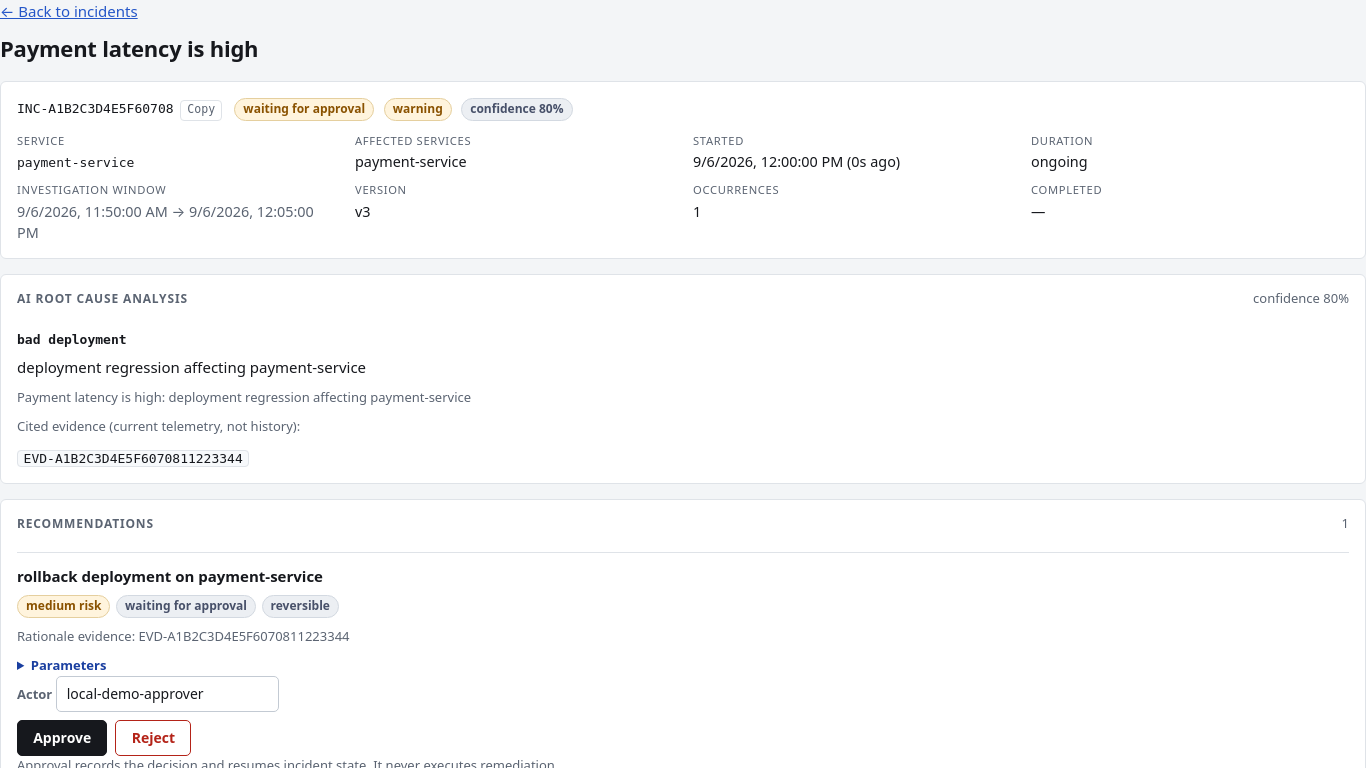
Test: IncidentDetailPage › requires an actor name before deciding
Expected: the button "Approve" is shown, [17,720,108,756]
Clear the field labelled "Actor" at (168, 694), box [56,676,279,712]
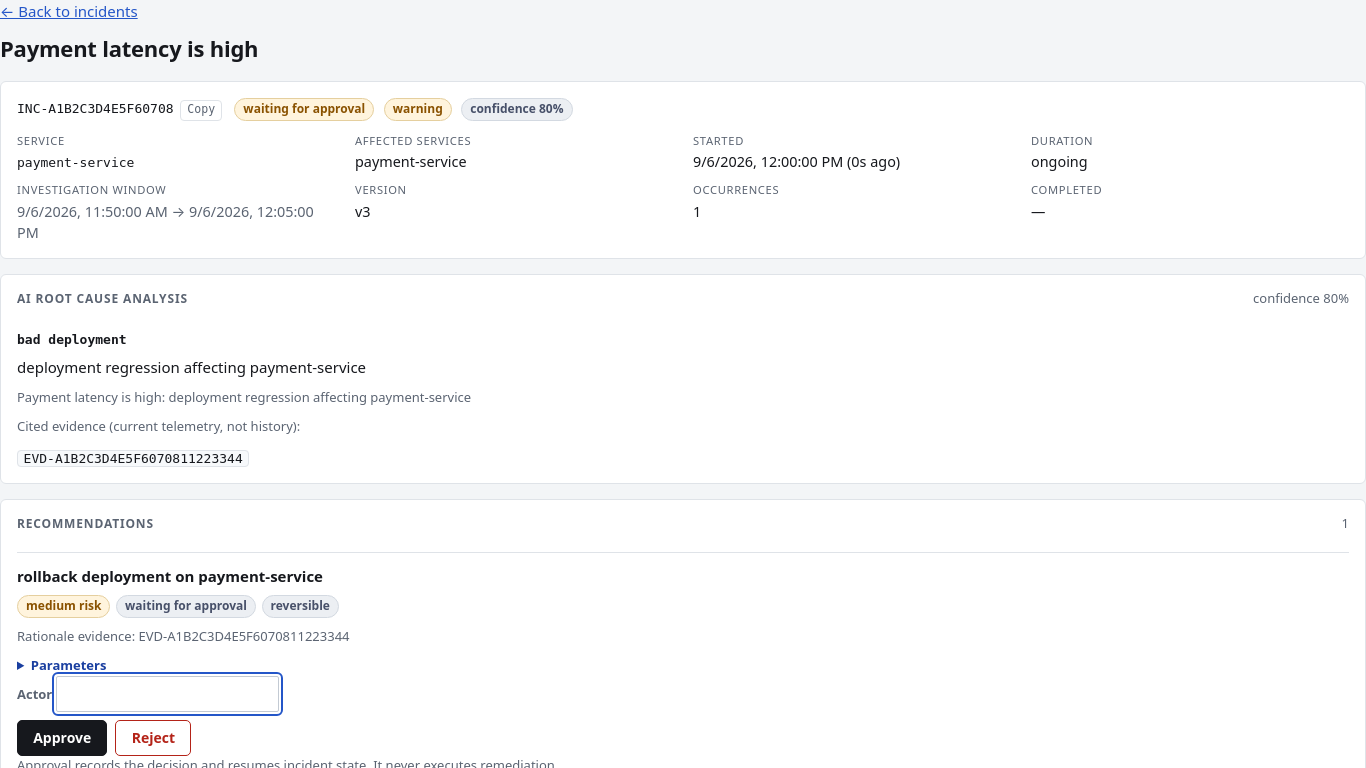
Click the button "Approve".
click(62, 738)  # box [17,720,108,756]
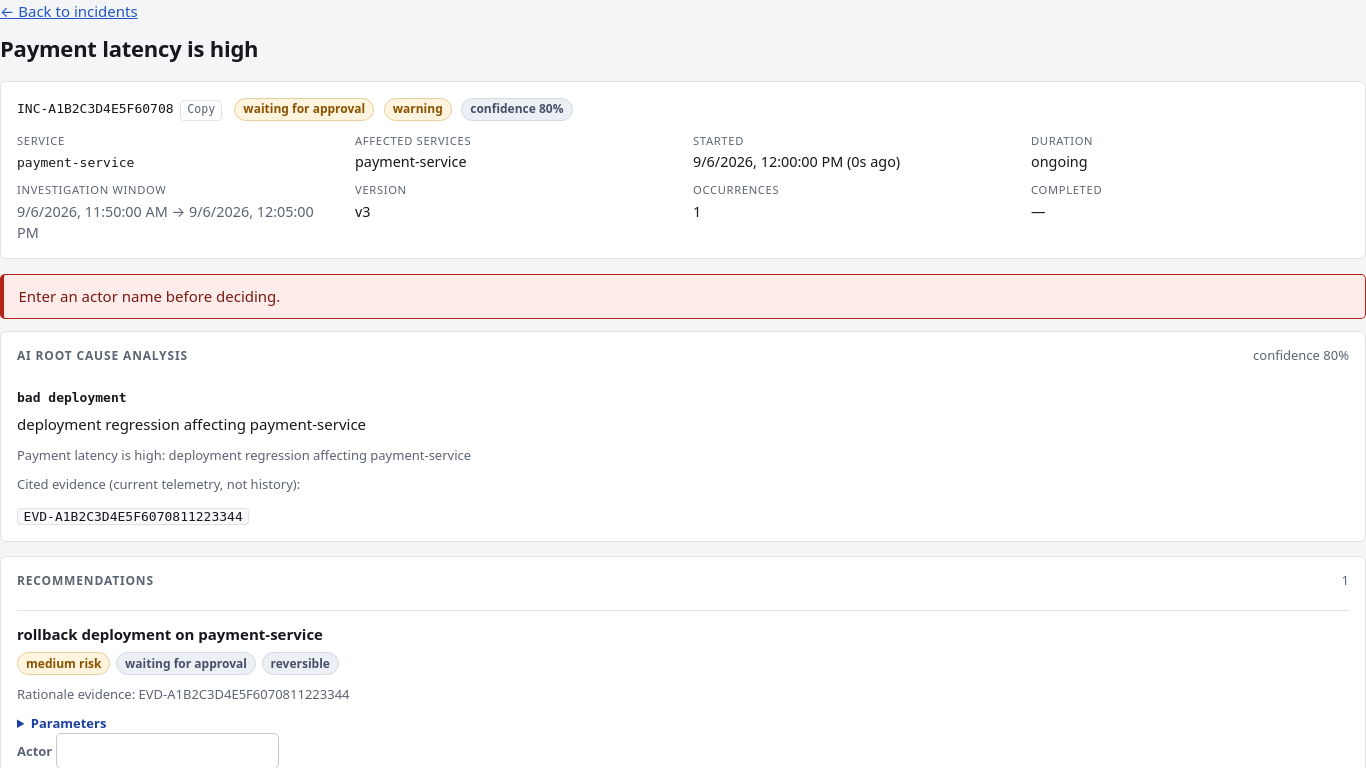
Expected: the text "Enter an actor name before deciding." is shown, [18,286,280,306]
